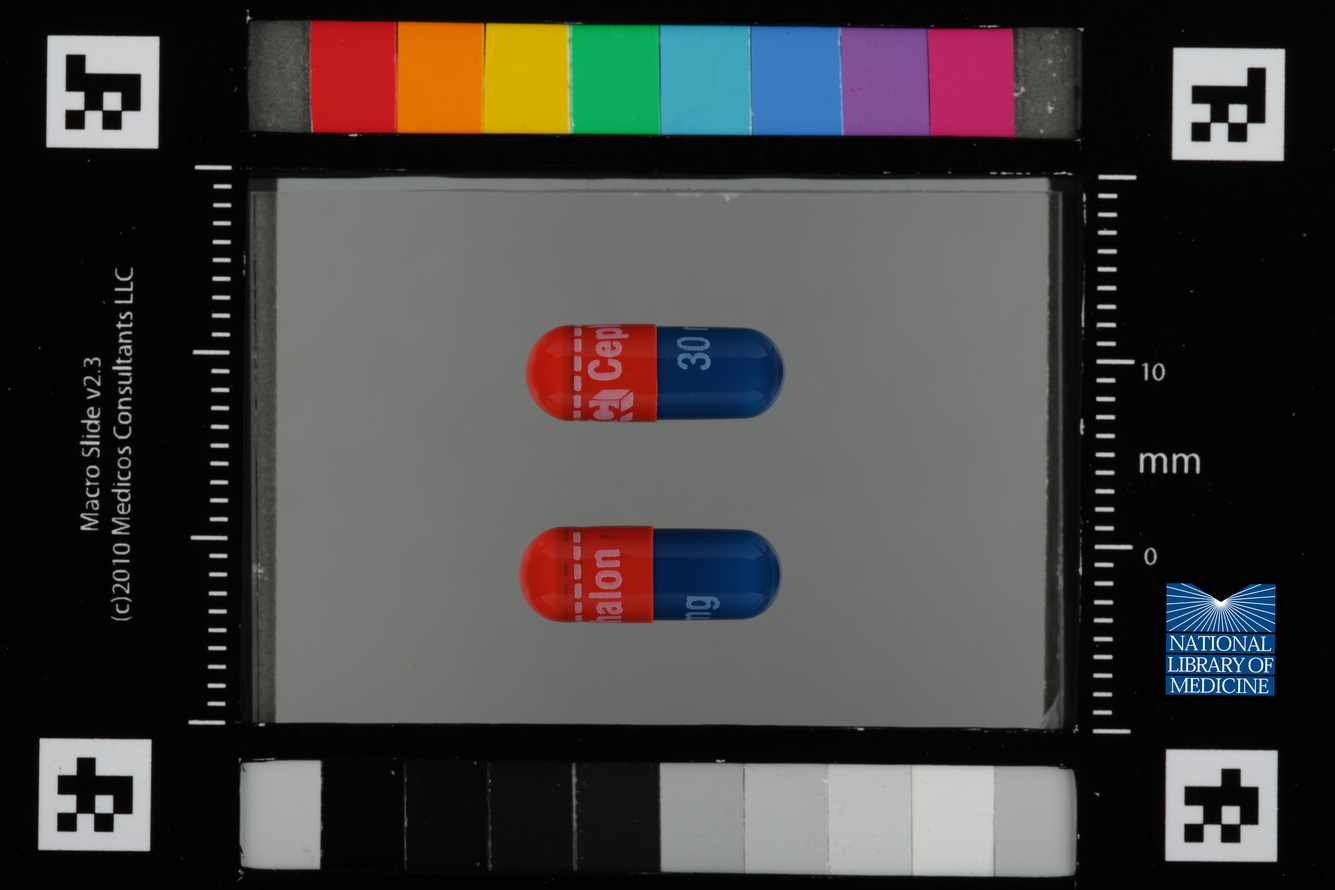Pill: (513, 516, 794, 637), (513, 314, 797, 431)
